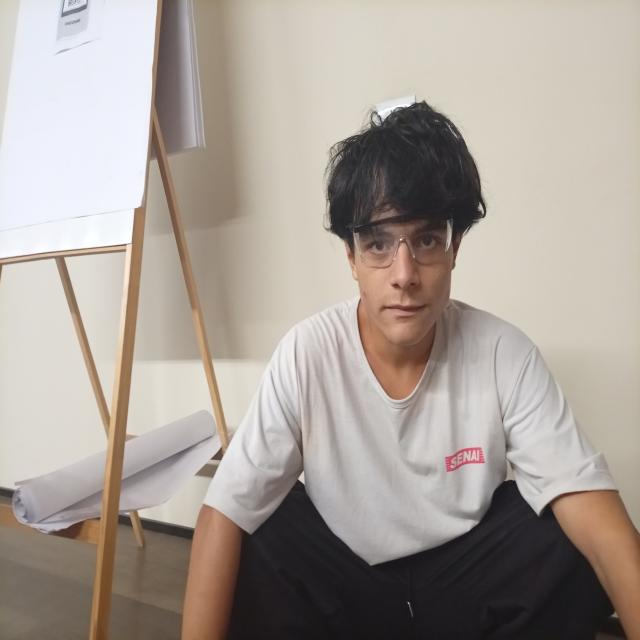oculos-epi: (352, 215, 453, 268)
